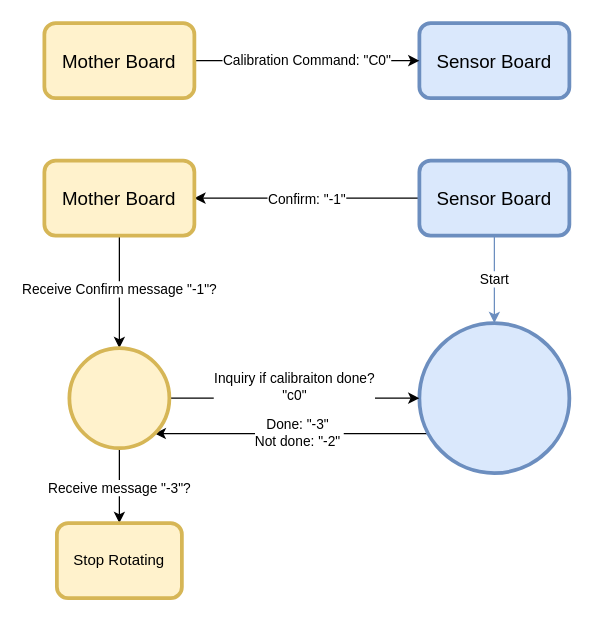
Some shapes in this 593 by 621 pixel diagram are drawn without their labels. The centre of each missing label's shape, as x and y in pixels:
Rotate the robot: (x=119, y=397)
Run Calibration algorithm for 5 second: (x=494, y=397)
